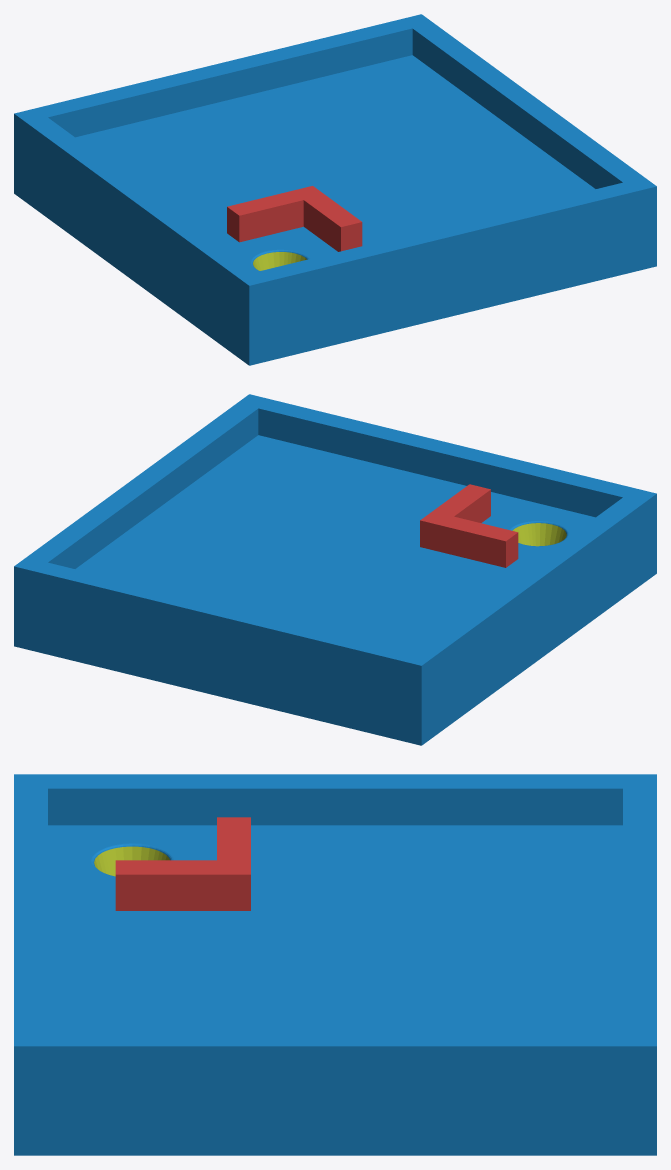
The model's file is Maze01.fbx.
3 views of the same model, one above another, from view 1: azimuth 30°, elevation 25°; view 2: azimuth 150°, elevation 25°; view 3: azimuth 270°, elevation 25° (orthographic). The views are drawn at different scales.
Visible parts, largest first — view 1: Maze Mesh; view 2: Maze Mesh; view 3: Maze Mesh.
Part boxes in pixels (<box>): Maze Mesh: <box>14,14,656,365</box>; Maze Mesh: <box>14,394,656,745</box>; Maze Mesh: <box>14,774,656,1155</box>.
Size of the model in its own units: 1600 by 300 by 1600.
